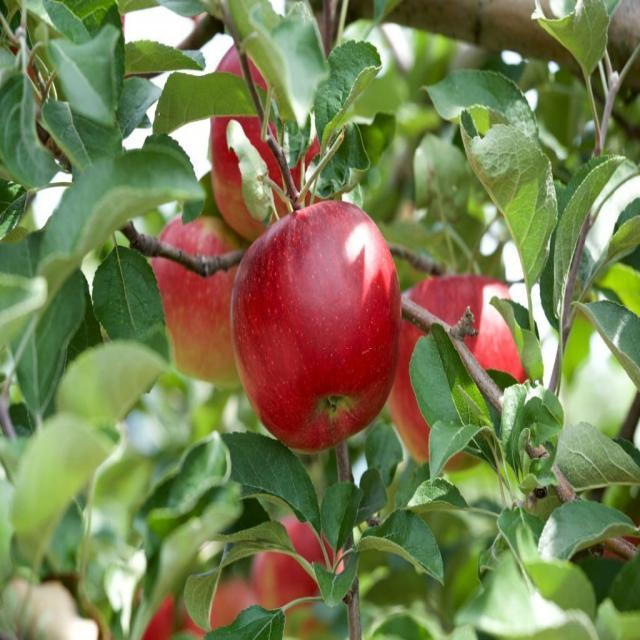Red Apple: (229, 203, 400, 435), (396, 272, 539, 458), (210, 36, 319, 202), (156, 212, 263, 378), (257, 524, 323, 611), (182, 574, 242, 639), (137, 585, 180, 640)
